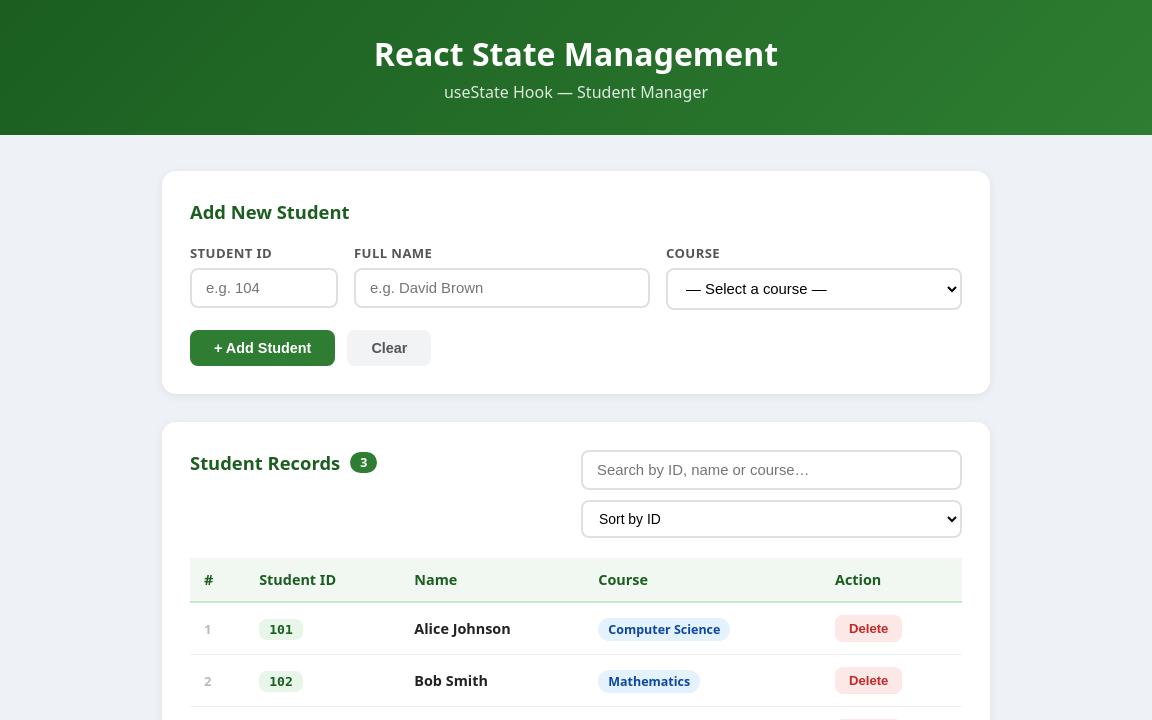
Test: shows empty message when all students deleted
Step 1. Click the button "Delete" in the row of "101" → point(869, 628), box [835, 615, 902, 642]
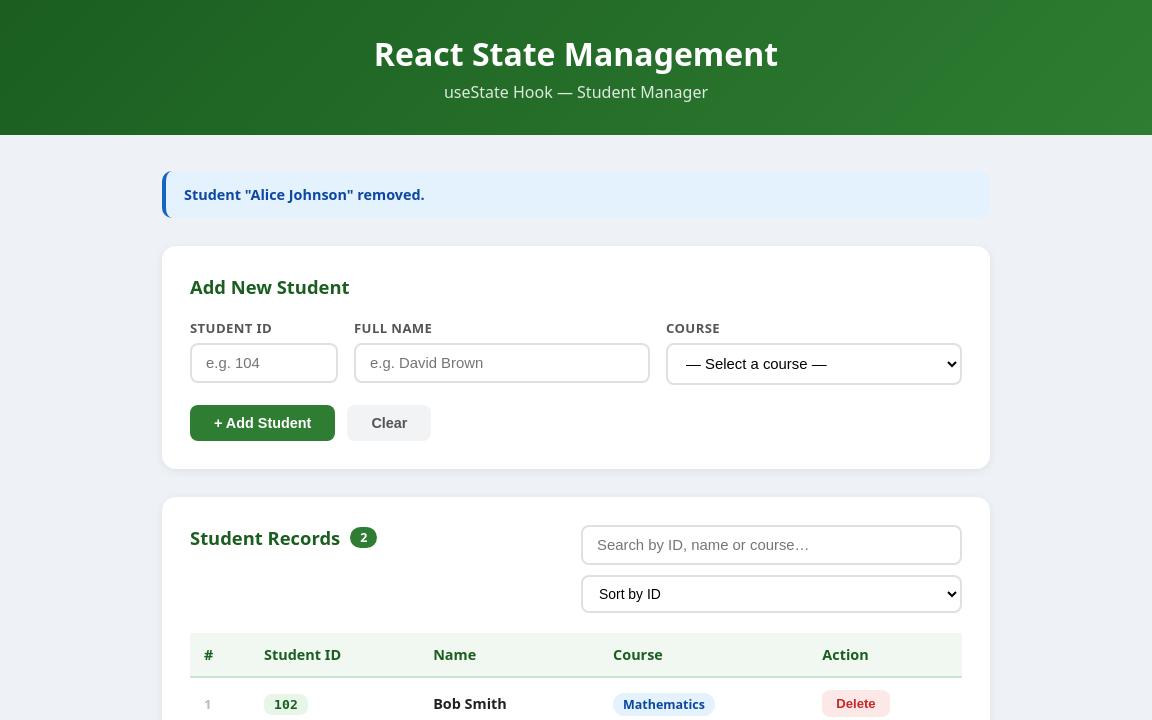
Step 2. Click the button "Delete" → point(856, 704), box [822, 690, 890, 717]
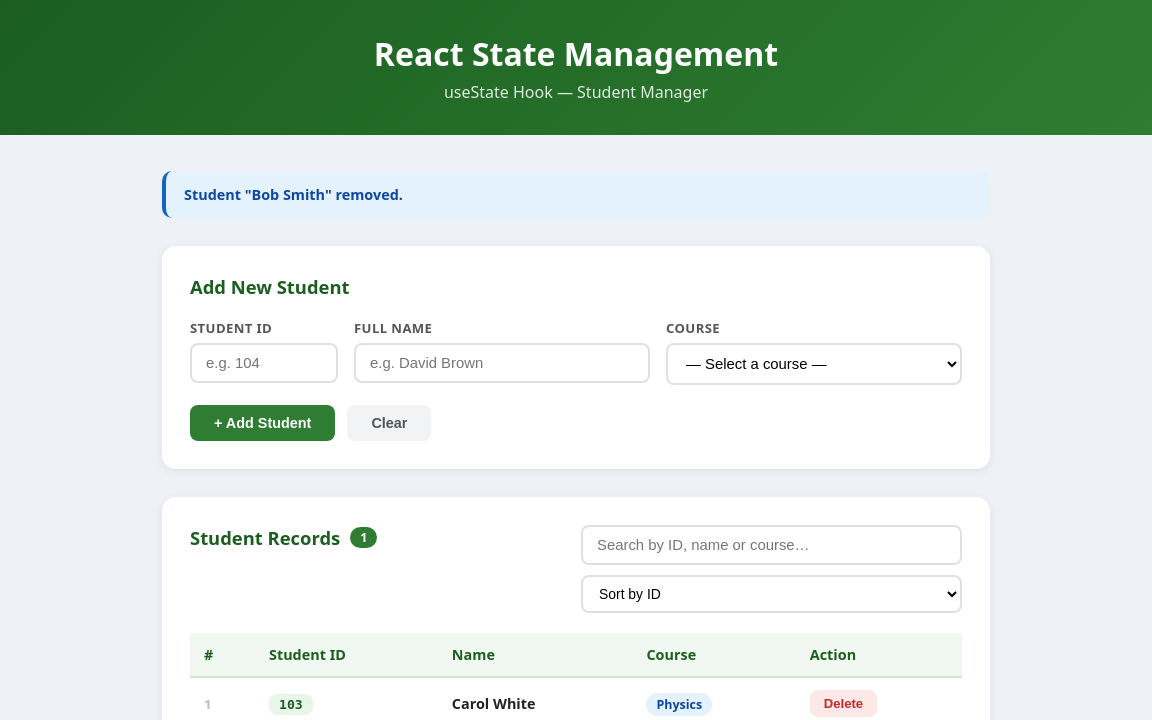
Step 3. Click the button "Delete" → point(844, 704), box [810, 690, 877, 717]
(page scrolled)
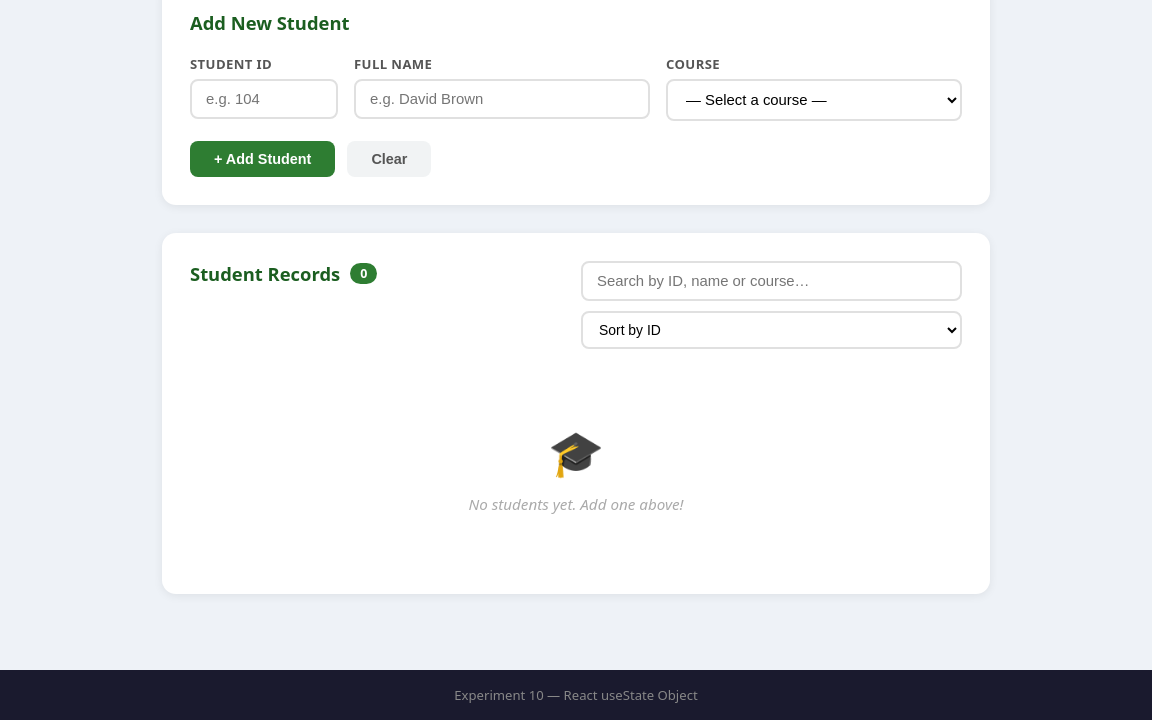
Expected: the text "No students yet. Add one above!" is shown, [468, 494, 684, 514]
